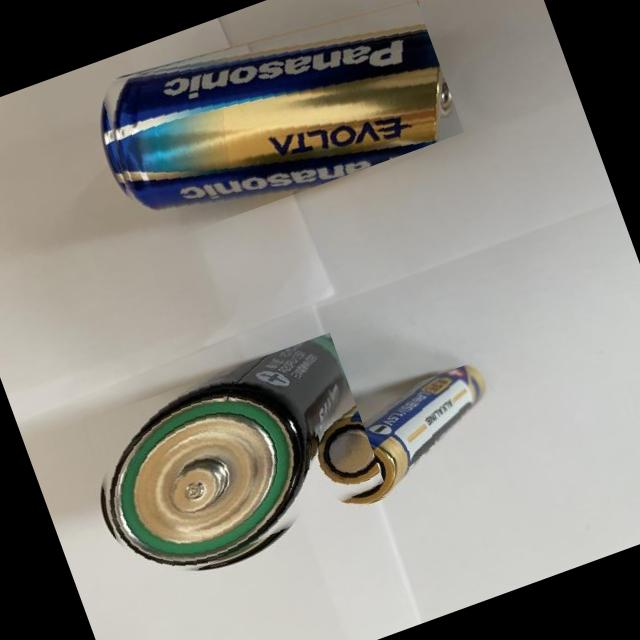Hazard: (83, 0, 464, 248), (69, 332, 393, 600), (302, 358, 514, 516)
